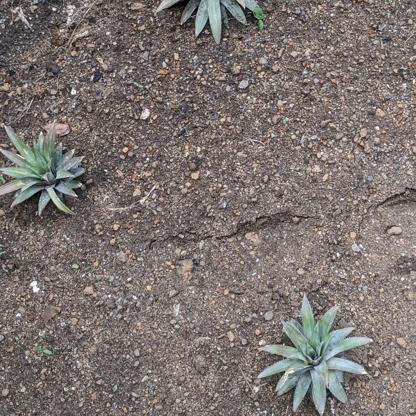pineapple: (255, 292, 374, 416), (1, 122, 87, 222), (151, 1, 266, 46)
